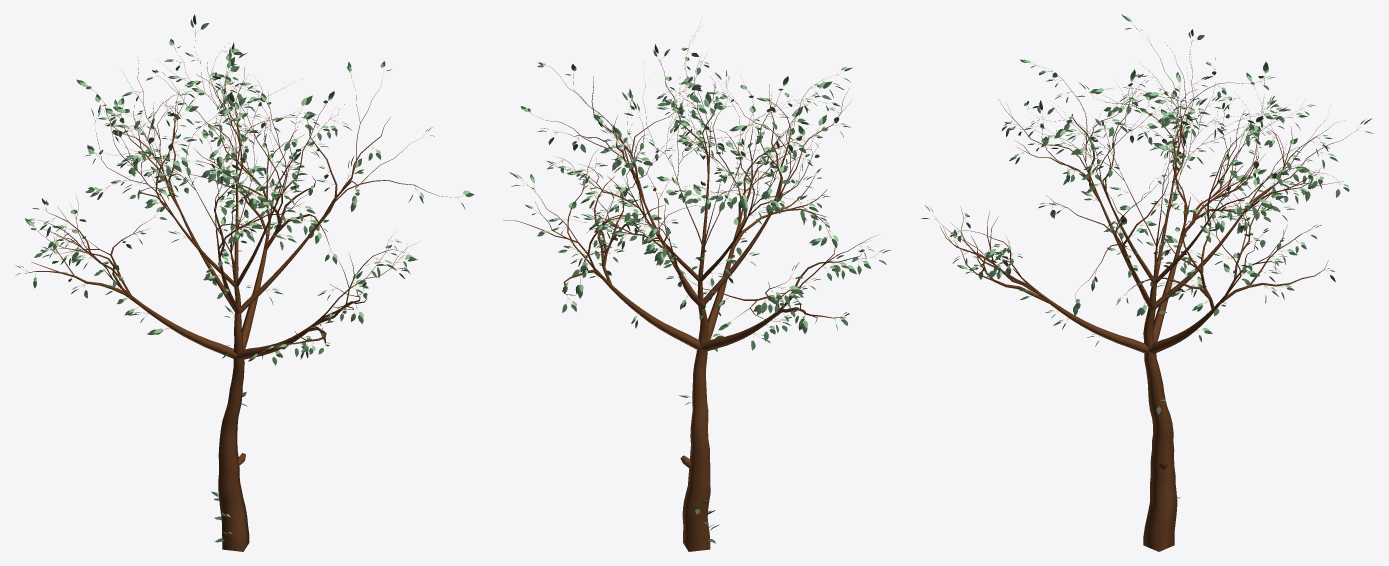
File: Tree36.fbx
3 views of the same model, side by side, from view 1: azimuth 30°, elevation 25°; view 2: azimuth 150°, elevation 25°; view 3: azimuth 270°, elevation 25° (orthographic).
Visible parts, largest first — view 1: Árbol.002; view 2: Árbol.002; view 3: Árbol.002.
Part boxes in pixels (x1,y1,x2,y2): Árbol.002: [25, 40, 451, 551]; Árbol.002: [503, 35, 877, 551]; Árbol.002: [939, 29, 1351, 551].
Bounding box in the file's own units: 1613 × 1915 × 1607.
